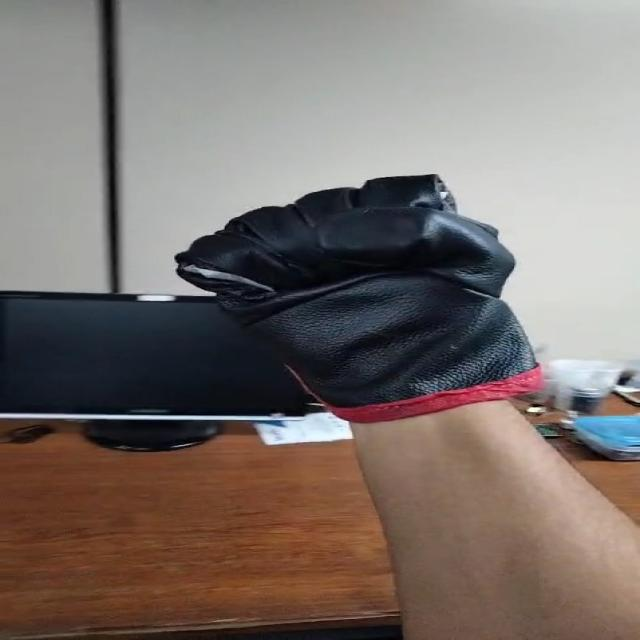Gloves: (174, 169, 562, 416)
